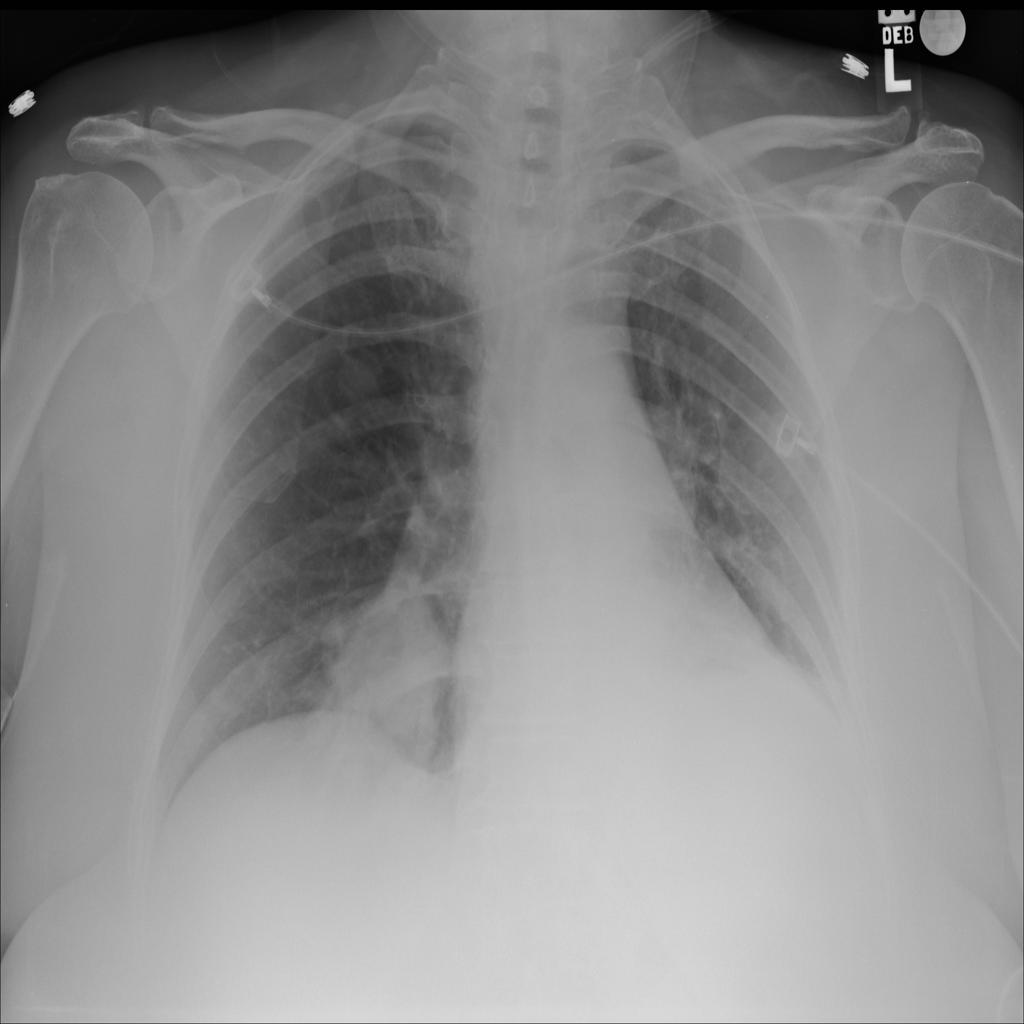nodule: (321, 579, 463, 770), (322, 337, 396, 416)
